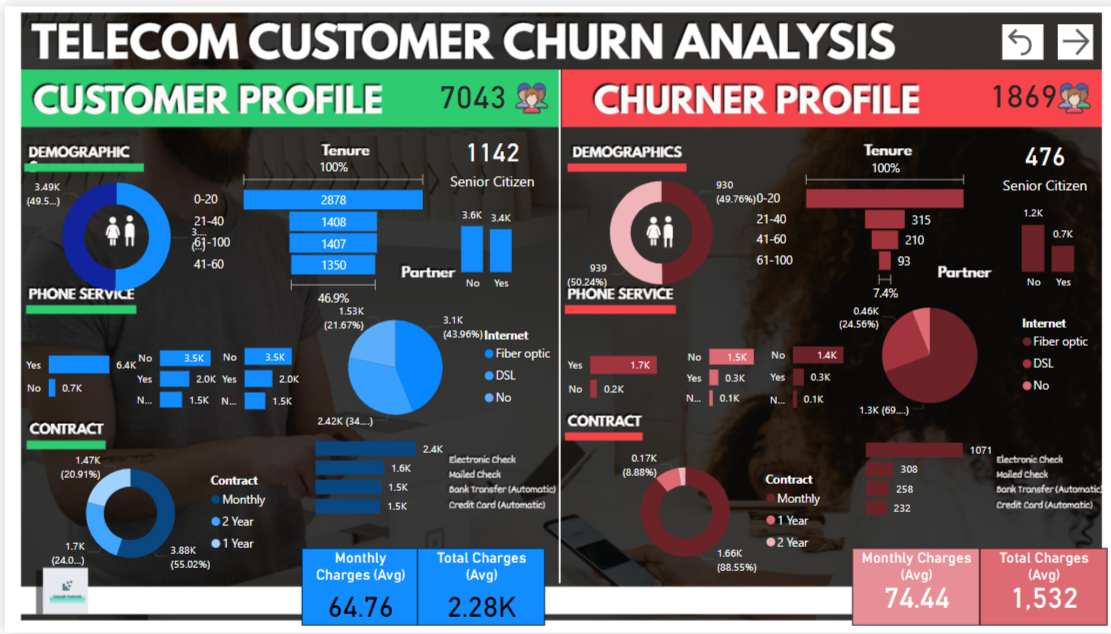

The dashboard page shown, as its layout file describes it:
{"tool":"powerbi","page":{"name":"Summary","canvas":[1280,720],"ordinal":1},"visuals":[{"type":"card","fields":{"Values":["CountNonNull(Churned_Data.Churn)"]},"box":[1089,83.6,161.2,54.9],"z":0},{"type":"card","fields":{"Values":["CountNonNull(Telco-Churn-Analysis.Churn)"]},"box":[456.5,84.7,161.6,54.9],"z":1000},{"type":"donutChart","fields":{"Category":["Telco-Churn-Analysis.gender"],"Y":["CountNonNull(Telco-Churn-Analysis.gender)"]},"box":[16.7,168.8,221.8,191.1],"z":2000},{"type":"donutChart","fields":{"Category":["Churned_Data.gender"],"Y":["CountNonNull(Churned_Data.gender)"]},"box":[639.9,172.2,229.6,174.6],"z":3000},{"type":"funnel","fields":{"Category":["Telco-Churn-Analysis.Tenure_Bin"],"Y":["CountNonNull(Telco-Churn-Analysis.Tenure_Bin)"]},"box":[212.9,169.1,278,180.4],"z":4000},{"type":"funnel","fields":{"Category":["Churned_Data.Tenure_Bin"],"Y":["CountNonNull(Churned_Data.Tenure_Bin)"]},"box":[858.5,169.6,253.1,174.3],"z":5000},{"type":"card","fields":{"Values":["Sum(Telco-Churn-Analysis.SeniorCitizen)"]},"box":[505.1,138,109.8,76.9],"z":6000},{"type":"card","fields":{"Values":["Sum(Churned_Data.SeniorCitizen)"]},"box":[1140.4,141.2,111.4,78.4],"z":7000},{"type":"clusteredColumnChart","fields":{"Category":["Telco-Churn-Analysis.Partner"],"Y":["CountNonNull(Telco-Churn-Analysis.Partner)"]},"box":[489.4,219.6,128.6,116.1],"z":8000},{"type":"clusteredColumnChart","fields":{"Category":["Churned_Data.Partner"],"Y":["CountNonNull(Churned_Data.Partner)"]},"box":[1132.5,214.9,133.3,119.2],"z":9000},{"type":"clusteredBarChart","fields":{"Category":["Telco-Churn-Analysis.PhoneService"],"Y":["CountNonNull(Telco-Churn-Analysis.PhoneService)"]},"box":[17.3,363.9,139.6,114.5],"z":10000},{"type":"clusteredBarChart","fields":{"Category":["Churned_Data.PhoneService"],"Y":["CountNonNull(Churned_Data.PhoneService)"]},"box":[640,363.9,141.2,116.1],"z":11000},{"type":"clusteredBarChart","fields":{"Category":["Telco-Churn-Analysis.OnlineSecurity"],"Y":["CountNonNull(Telco-Churn-Analysis.OnlineSecurity)"]},"box":[131.8,371.8,134.9,103.5],"z":12000},{"type":"clusteredBarChart","fields":{"Category":["Churned_Data.OnlineSecurity"],"Y":["CountNonNull(Churned_Data.OnlineSecurity)"]},"box":[765.5,370.2,125.5,103.5],"z":13000},{"type":"clusteredBarChart","fields":{"Category":["Telco-Churn-Analysis.TechSupport"],"Y":["CountNonNull(Telco-Churn-Analysis.TechSupport)"]},"box":[229,368.6,133.3,109.8],"z":14000},{"type":"clusteredBarChart","fields":{"Category":["Churned_Data.TechSupport"],"Y":["CountNonNull(Churned_Data.TechSupport)"]},"box":[858,367.1,136.5,109.8],"z":15000},{"type":"pieChart","fields":{"Y":["CountNonNull(Telco-Churn-Analysis.InternetService)"],"Category":["Telco-Churn-Analysis.InternetService"]},"box":[342,334.1,299.6,160],"z":16000},{"type":"pieChart","fields":{"Category":["Churned_Data.InternetService"],"Y":["CountNonNull(Churned_Data.InternetService)"]},"box":[952.2,320,307.5,160],"z":17000},{"type":"donutChart","fields":{"Category":["Telco-Churn-Analysis.Contract"],"Y":["CountNonNull(Telco-Churn-Analysis.Contract)"]},"box":[47.1,505.1,268.2,153.7],"z":18000},{"type":"donutChart","fields":{"Category":["Churned_Data.Contract"],"Y":["CountNonNull(Churned_Data.Contract)"]},"box":[683.8,503.5,268,154.1],"z":19000},{"type":"clusteredBarChart","fields":{"Category":["Telco-Churn-Analysis.PaymentMethod"],"Y":["CountNonNull(Telco-Churn-Analysis.PaymentMethod)"]},"box":[351.4,486.3,161.6,102],"z":20000},{"type":"clusteredBarChart","fields":{"Category":["Churned_Data.PaymentMethod"],"Y":["CountNonNull(Churned_Data.PaymentMethod)"]},"box":[985.1,487.8,160,102],"z":21000},{"type":"card","title":"Monthly Charges (Avg)","fields":{"Values":["Avg(Telco-Churn-Analysis.MonthlyCharges)"]},"box":[341.5,622.7,133.4,89],"z":22000},{"type":"card","title":"Monthly Charges (Avg)","fields":{"Values":["Avg(Churned_Data.MonthlyCharges)"]},"box":[974.4,622.5,146.5,88.9],"z":23000},{"type":"card","title":"Total Charges (Avg)","fields":{"Values":["Avg(Churned_Data.TotalCharges)"]},"box":[1120.9,622.5,146.5,88.9],"z":24000},{"type":"card","title":"Total Charges (Avg)","fields":{"Values":["Avg(Telco-Churn-Analysis.TotalCharges)"]},"box":[474.7,622.5,146.5,88.9],"z":25000},{"type":"actionButton","box":[1211,20.4,40.8,40.8],"z":26000},{"type":"actionButton","box":[1146.7,20.4,47.1,40.8],"z":27000}]}

Visuals, with their boxes in screenshot pixels (x1, y1, x2, y2), scaled from the page's 1280x720 canvas onto the 1111x634 screenshot:
card - CountNonNull(Churned_Data.Churn): region(945, 74, 1085, 122)
card - CountNonNull(Telco-Churn-Analysis.Churn): region(396, 75, 536, 123)
donutChart - Telco-Churn-Analysis.gender x CountNonNull(Telco-Churn-Analysis.gender): region(14, 149, 207, 317)
donutChart - Churned_Data.gender x CountNonNull(Churned_Data.gender): region(555, 152, 755, 305)
funnel - Telco-Churn-Analysis.Tenure_Bin x CountNonNull(Telco-Churn-Analysis.Tenure_Bin): region(185, 149, 426, 308)
funnel - Churned_Data.Tenure_Bin x CountNonNull(Churned_Data.Tenure_Bin): region(745, 149, 965, 303)
card - Sum(Telco-Churn-Analysis.SeniorCitizen): region(438, 122, 534, 189)
card - Sum(Churned_Data.SeniorCitizen): region(990, 124, 1087, 193)
clusteredColumnChart - Telco-Churn-Analysis.Partner x CountNonNull(Telco-Churn-Analysis.Partner): region(425, 193, 536, 296)
clusteredColumnChart - Churned_Data.Partner x CountNonNull(Churned_Data.Partner): region(983, 189, 1099, 294)
clusteredBarChart - Telco-Churn-Analysis.PhoneService x CountNonNull(Telco-Churn-Analysis.PhoneService): region(15, 320, 136, 421)
clusteredBarChart - Churned_Data.PhoneService x CountNonNull(Churned_Data.PhoneService): region(556, 320, 678, 423)
clusteredBarChart - Telco-Churn-Analysis.OnlineSecurity x CountNonNull(Telco-Churn-Analysis.OnlineSecurity): region(114, 327, 231, 419)
clusteredBarChart - Churned_Data.OnlineSecurity x CountNonNull(Churned_Data.OnlineSecurity): region(664, 326, 773, 417)
clusteredBarChart - Telco-Churn-Analysis.TechSupport x CountNonNull(Telco-Churn-Analysis.TechSupport): region(199, 325, 314, 421)
clusteredBarChart - Churned_Data.TechSupport x CountNonNull(Churned_Data.TechSupport): region(745, 323, 863, 420)
pieChart - CountNonNull(Telco-Churn-Analysis.InternetService) x Telco-Churn-Analysis.InternetService: region(297, 294, 557, 435)
pieChart - Churned_Data.InternetService x CountNonNull(Churned_Data.InternetService): region(826, 282, 1093, 423)
donutChart - Telco-Churn-Analysis.Contract x CountNonNull(Telco-Churn-Analysis.Contract): region(41, 445, 274, 580)
donutChart - Churned_Data.Contract x CountNonNull(Churned_Data.Contract): region(594, 443, 826, 579)
clusteredBarChart - Telco-Churn-Analysis.PaymentMethod x CountNonNull(Telco-Churn-Analysis.PaymentMethod): region(305, 428, 445, 518)
clusteredBarChart - Churned_Data.PaymentMethod x CountNonNull(Churned_Data.PaymentMethod): region(855, 430, 994, 519)
"Monthly Charges (Avg)" card: region(296, 548, 412, 627)
"Monthly Charges (Avg)" card: region(846, 548, 973, 626)
"Total Charges (Avg)" card: region(973, 548, 1100, 626)
"Total Charges (Avg)" card: region(412, 548, 539, 626)
actionButton: region(1051, 18, 1087, 54)
actionButton: region(995, 18, 1036, 54)
